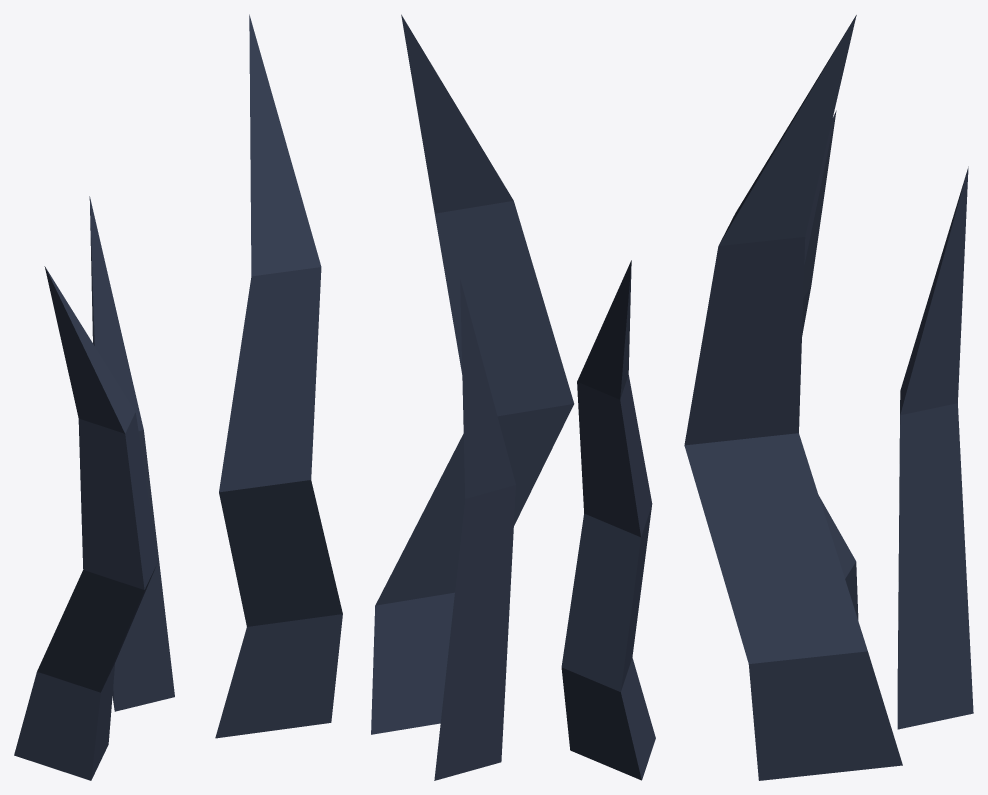
Rendered from SP_Plant09.fbx.
The picture shows the model from 3 angles, left to right: view 1: azimuth 30°, elevation 25°; view 2: azimuth 150°, elevation 25°; view 3: azimuth 270°, elevation 25°; orthographic projection. The views are drawn at different scales.
Parts seen in each view (by area): view 1: SP_Plant09; view 2: SP_Plant09; view 3: SP_Plant09.
Boxes of the visible parts, bbox=[...] form: SP_Plant09: bbox=[14, 14, 342, 780]; SP_Plant09: bbox=[371, 14, 655, 780]; SP_Plant09: bbox=[684, 15, 973, 780].
Bounding box in the file's own units: 16.4 × 38.55 × 13.52.
Materials: 1 (1 with a texture image).
